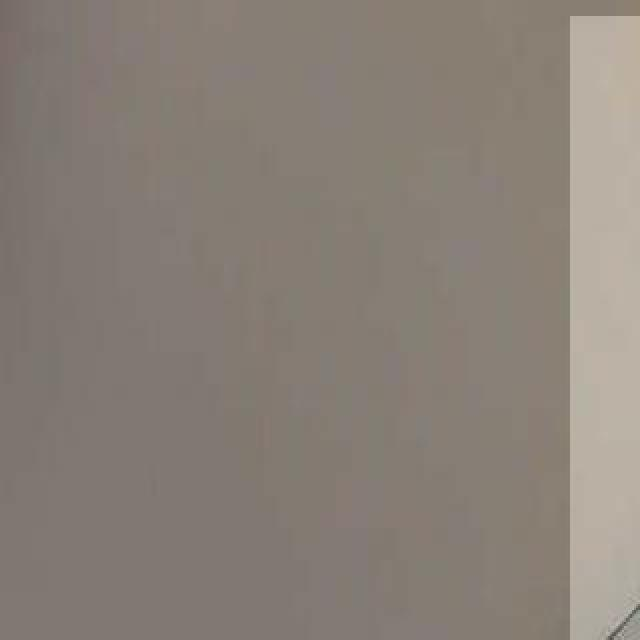fluorescent tube: (576, 20, 640, 640)
